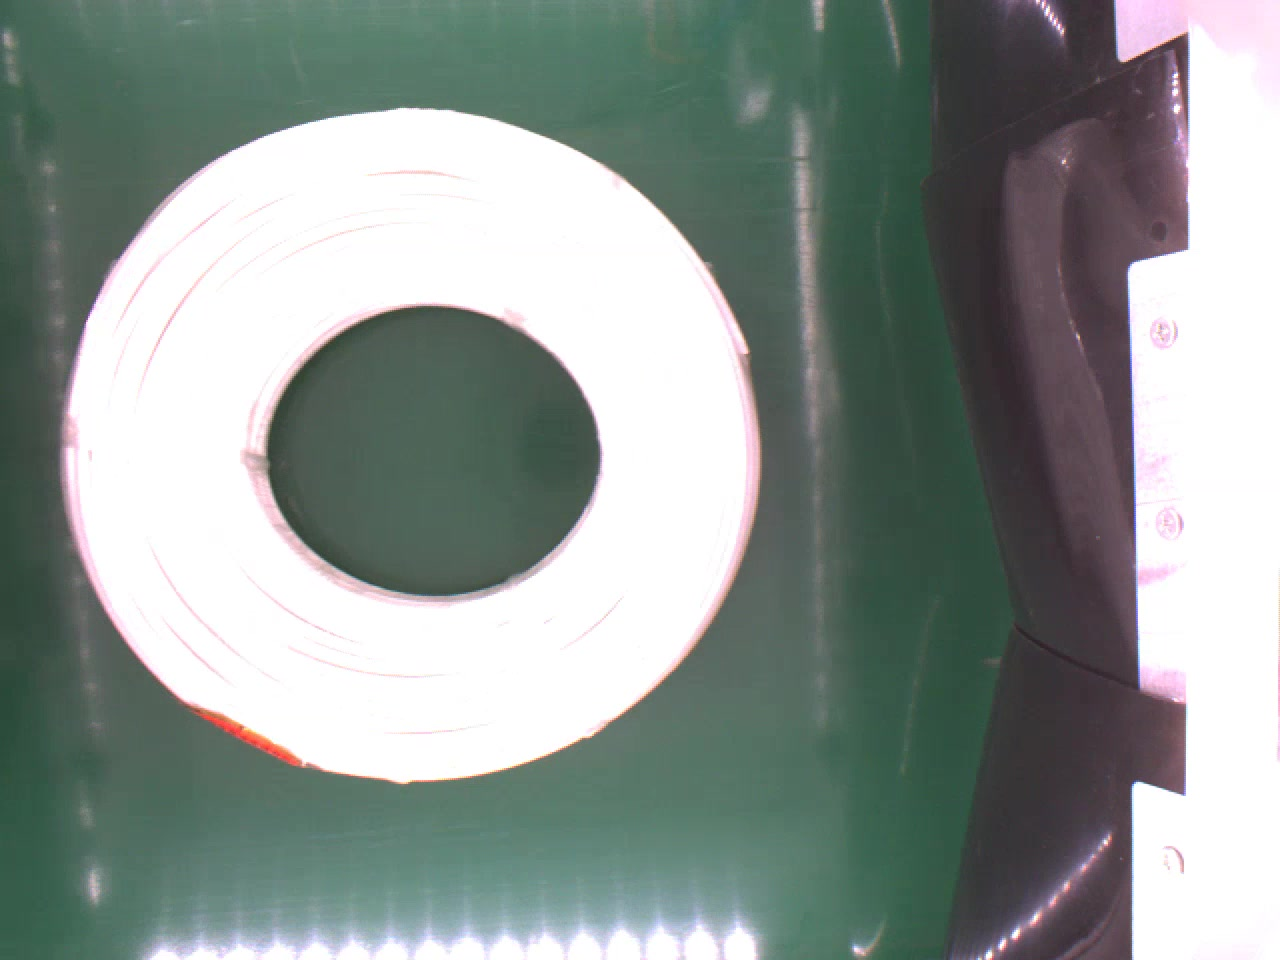white: (62, 99, 769, 778)
